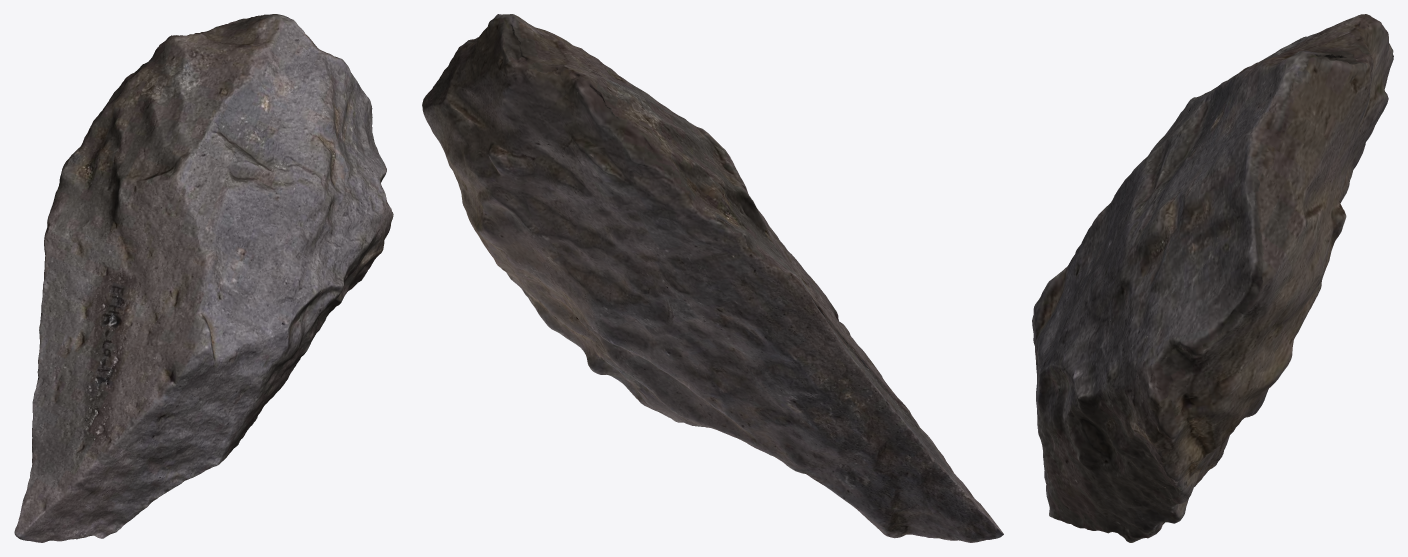
Rendered from handaxe.glb.
3 renders of one model, left to right at view 1: azimuth 30°, elevation 25°; view 2: azimuth 150°, elevation 25°; view 3: azimuth 270°, elevation 25°, orthographic. The views are drawn at different scales.
Parts seen in each view (by area): view 1: Object_2; view 2: Object_2; view 3: Object_2.
Boxes of the visible parts, x1,y1,x2,y2 form: Object_2: (14,14,393,542); Object_2: (422,14,1003,542); Object_2: (1032,14,1393,542).
Size of the model in its own units: 0.1312 by 0.1259 by 0.0628.
Materials: 1 (1 with a texture image).
